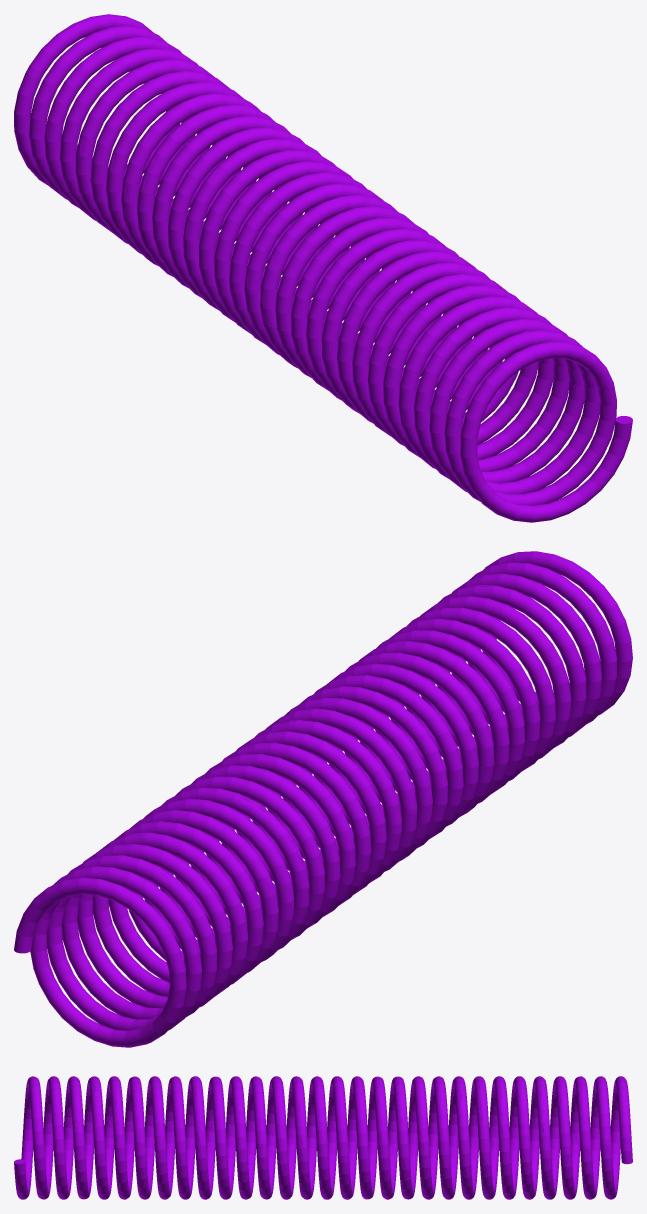
The model's file is valve_spring_new.glb.
The picture shows the model from 3 angles, top to bottom: view 1: azimuth 30°, elevation 25°; view 2: azimuth 150°, elevation 25°; view 3: azimuth 270°, elevation 25°; orthographic projection. The views are drawn at different scales.
Parts seen in each view (by area): view 1: Node1; view 2: Node1; view 3: Node1.
Part boxes in pixels (<box>): Node1: <box>14,14,632,522</box>; Node1: <box>14,551,632,1047</box>; Node1: <box>14,1076,632,1199</box>.
Bounding box in the file's own units: 3.06 × 3.05 × 15.28.
